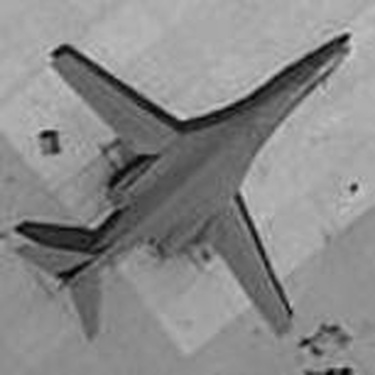airplane: (5, 19, 358, 349)
